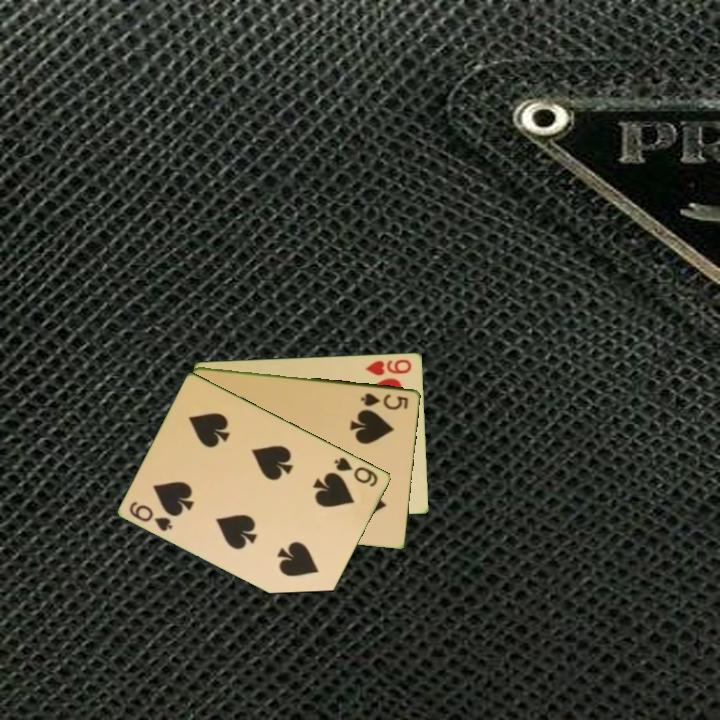5s: (357, 389, 411, 412)
6s: (331, 453, 381, 490), (126, 498, 176, 534)
9h: (362, 356, 414, 378)
